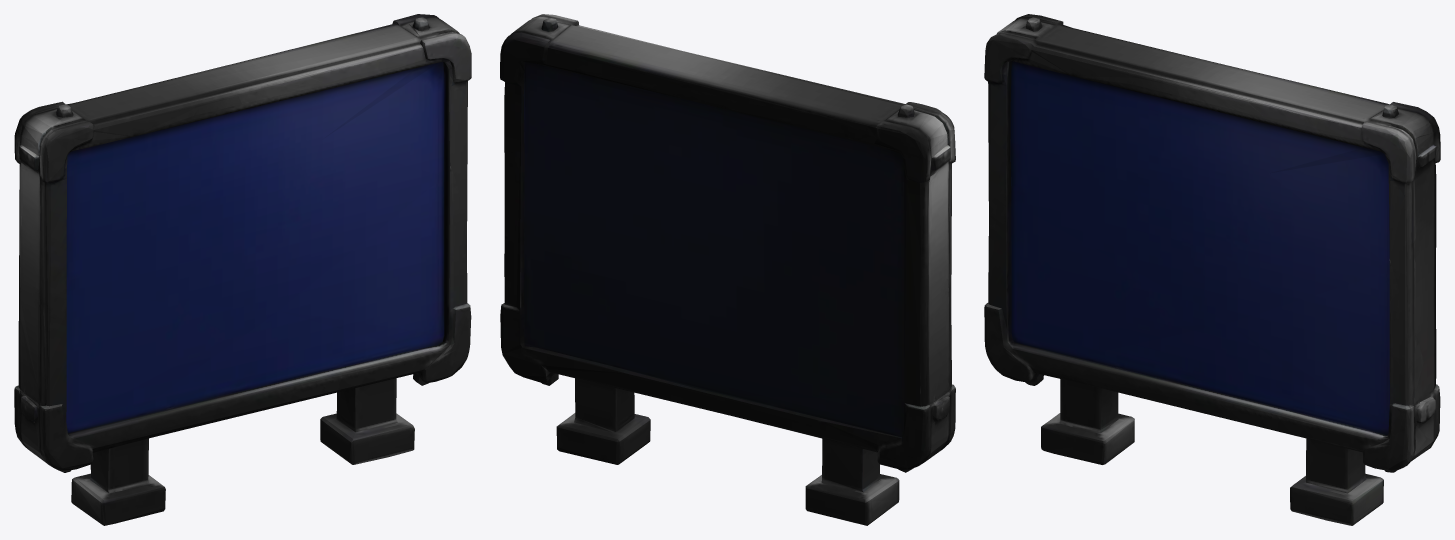
The model's file is bigscreen.glb.
The picture shows the model from 3 angles, left to right: view 1: azimuth 30°, elevation 25°; view 2: azimuth 150°, elevation 25°; view 3: azimuth 330°, elevation 25°; orthographic projection.
Visible parts, largest first — view 1: geometry_0; view 2: geometry_0; view 3: geometry_0.
Boxes of the visible parts, left/top/right/bottom form: geometry_0: left=14, top=14, right=471, bottom=525; geometry_0: left=500, top=14, right=955, bottom=525; geometry_0: left=984, top=14, right=1440, bottom=525.
Size of the model in its own units: 0.9991 by 0.918 by 0.1367.
Materials: 1 (1 with a texture image).
